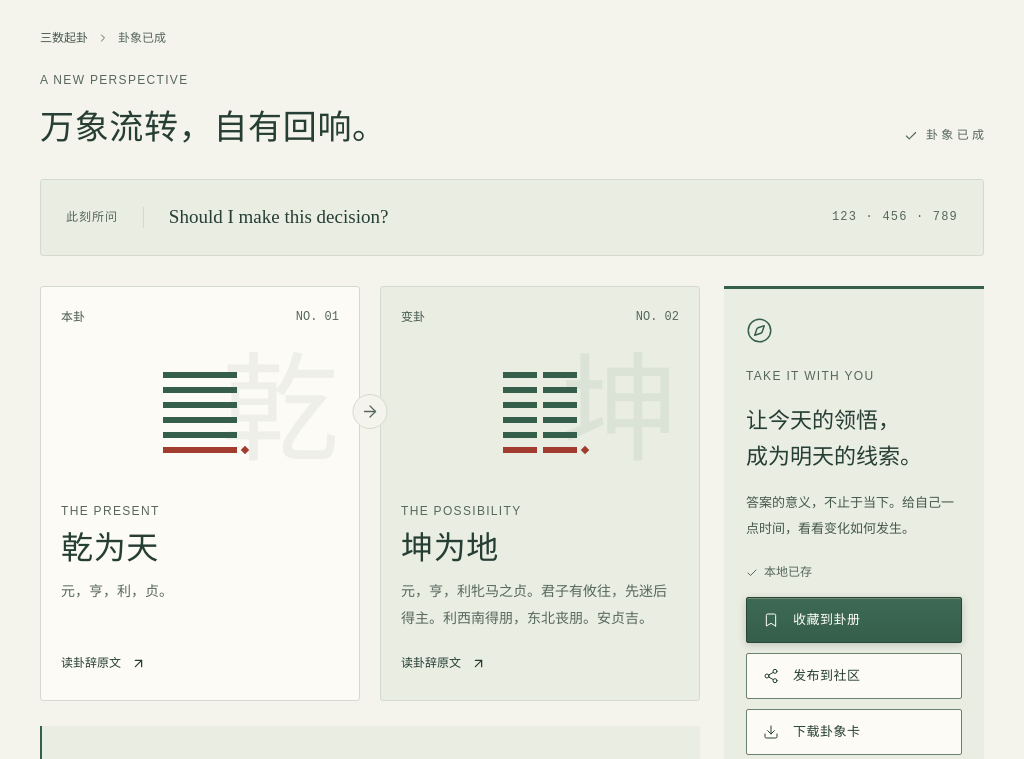
ResultDisplay › saves the record to the cloud with the mapped payload, then locks the button
The width and height of the screenshot is (1024, 759).
Click the button "收藏到卦册" at (854, 620), box [746,597,962,643]
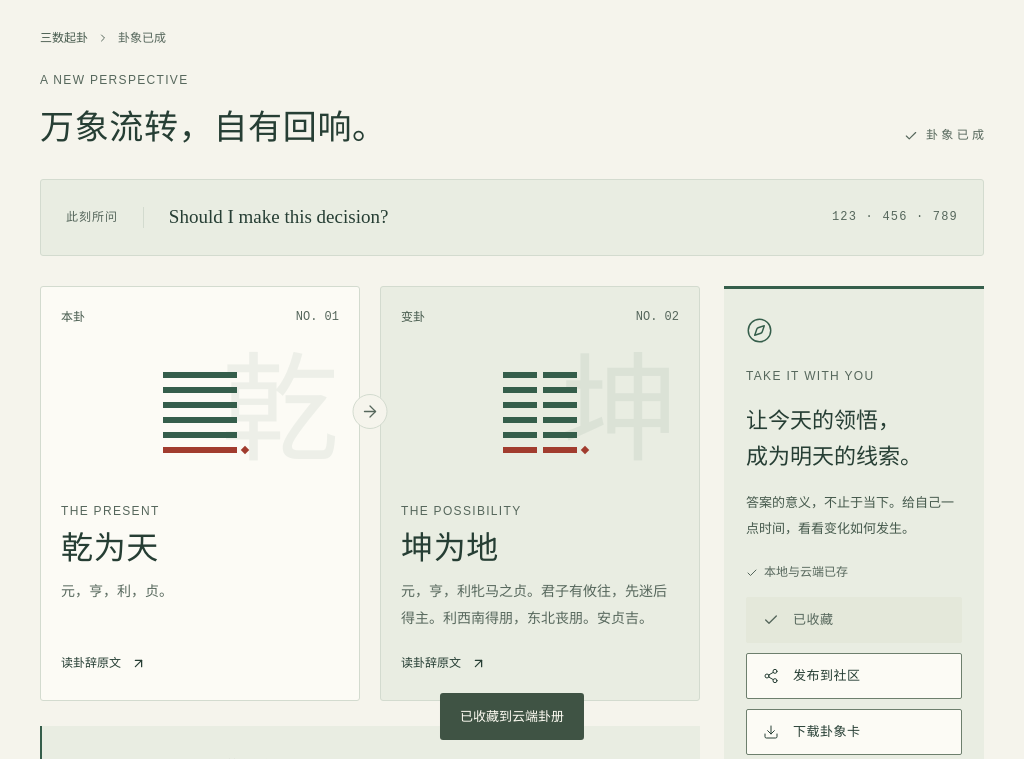
Expected: the text "Should I make this decision?" is shown, [169,206,388,227]
Expected: the button "已收藏" is disabled, [746,597,962,643]
Expected: the text "已收藏到云端卦册" is shown, [440,693,584,740]
